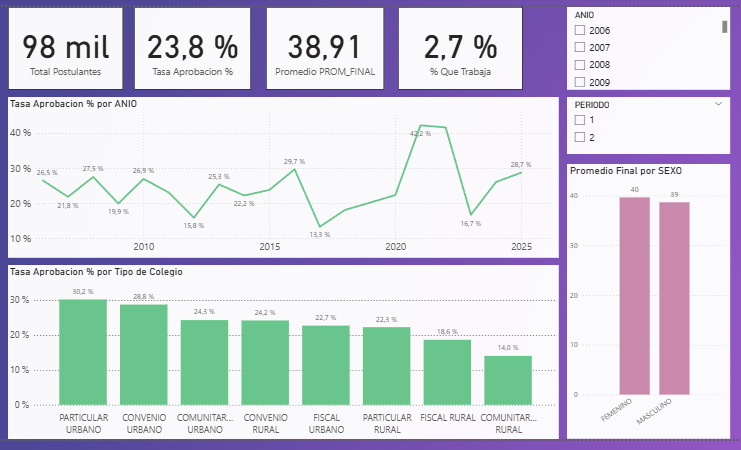

Layout of this report page (visuals, bound fields, positions):
{"tool":"powerbi","page":{"name":"Panorama-Dashboard1","canvas":[1280,720],"ordinal":0},"visuals":[{"type":"card","fields":{"Values":["Df_Postulantes.Total Postulantes"]},"box":[13.3,0,191.7,138.3],"z":0},{"type":"card","fields":{"Values":["Df_Postulantes.Promedio PROM_FINAL"]},"box":[443.3,0,196.7,138.3],"z":1000},{"type":"card","fields":{"Values":["Df_Postulantes.Tasa Aprobacion %"]},"box":[223.3,0,195,138.3],"z":2000},{"type":"card","fields":{"Values":["Df_Postulantes.% Que Trabaja"]},"box":[663.3,0,208.3,138.3],"z":3000},{"type":"lineChart","fields":{"Category":["Df_Postulantes.ANIO"],"Y":["Df_Postulantes.Tasa Aprobacion %"]},"box":[13.3,150,918.3,268.3],"z":4000},{"type":"clusteredColumnChart","title":"Tasa Aprobacion % por Tipo de Colegio","fields":{"Y":["Df_Postulantes.Tasa Aprobacion %"],"Category":["Df_Postulantes.TIPO_COLEGIO"]},"box":[13.3,430,918.3,290],"z":5000},{"type":"clusteredColumnChart","title":"Promedio Final por SEXO","fields":{"Category":["Df_Postulantes.SEXO"],"Y":["Df_Postulantes.Promedio PROM_FINAL"]},"box":[945,261.7,271.7,458.3],"z":6000},{"type":"slicer","fields":{"Values":["Df_Postulantes.ANIO"]},"box":[945,0,271.7,138.3],"z":7000},{"type":"slicer","fields":{"Values":["Df_Postulantes.PERIODO"]},"box":[945,150,271.7,95],"z":8000}]}

Visuals, with their boxes on the page's 1280x720 design canvas (x1, y1, x2, y2). These are canvas units, not pixel positions in the 741x450 screenshot, which may show the page scaled, cropped or inside an application window:
card - Df_Postulantes.Total Postulantes: [x1=13, y1=0, x2=205, y2=138]
card - Df_Postulantes.Promedio PROM_FINAL: [x1=443, y1=0, x2=640, y2=138]
card - Df_Postulantes.Tasa Aprobacion %: [x1=223, y1=0, x2=418, y2=138]
card - Df_Postulantes.% Que Trabaja: [x1=663, y1=0, x2=872, y2=138]
lineChart - Df_Postulantes.ANIO x Df_Postulantes.Tasa Aprobacion %: [x1=13, y1=150, x2=932, y2=418]
"Tasa Aprobacion % por Tipo de Colegio" clusteredColumnChart: [x1=13, y1=430, x2=932, y2=720]
"Promedio Final por SEXO" clusteredColumnChart: [x1=945, y1=262, x2=1217, y2=720]
slicer - Df_Postulantes.ANIO: [x1=945, y1=0, x2=1217, y2=138]
slicer - Df_Postulantes.PERIODO: [x1=945, y1=150, x2=1217, y2=245]
